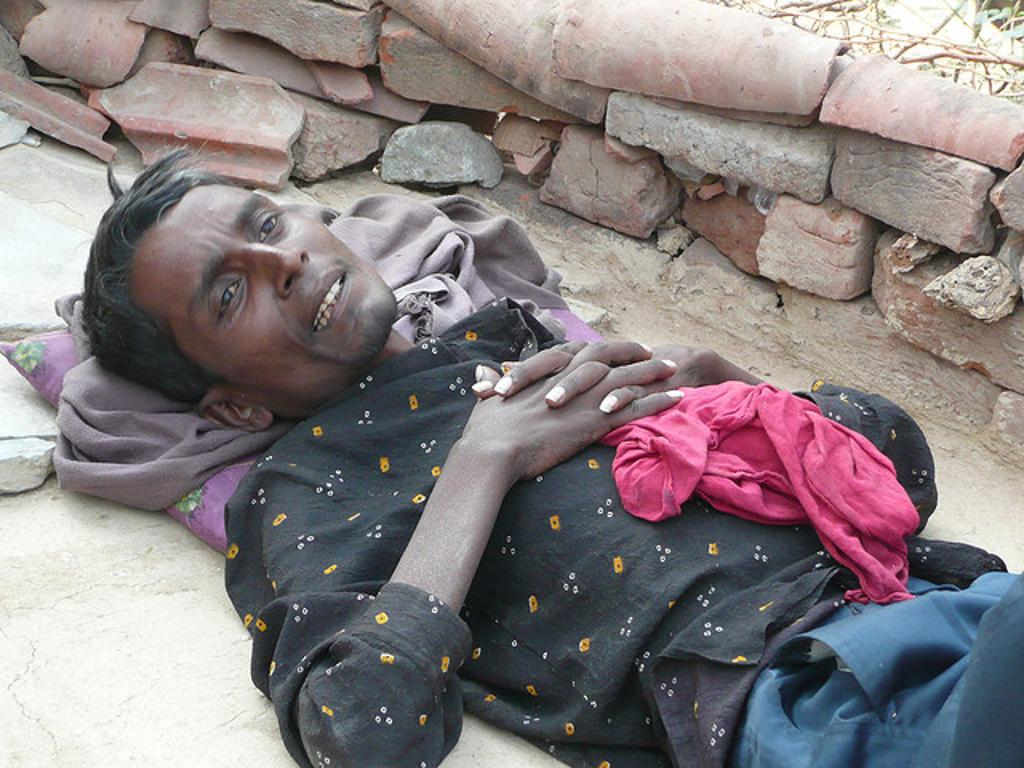face: (156, 196, 384, 372)
